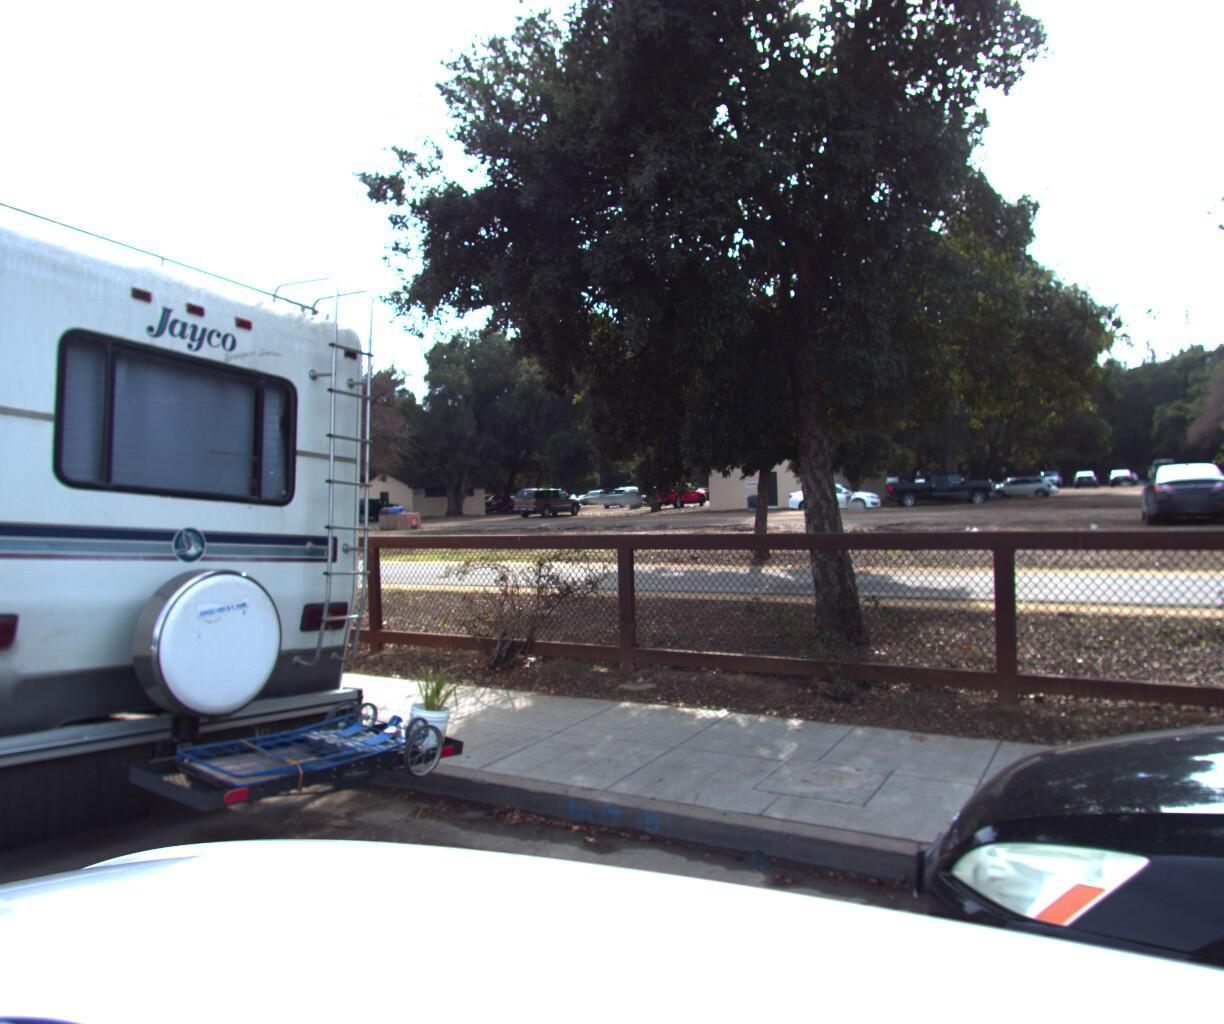other_vehicle: (0, 82, 446, 998)
